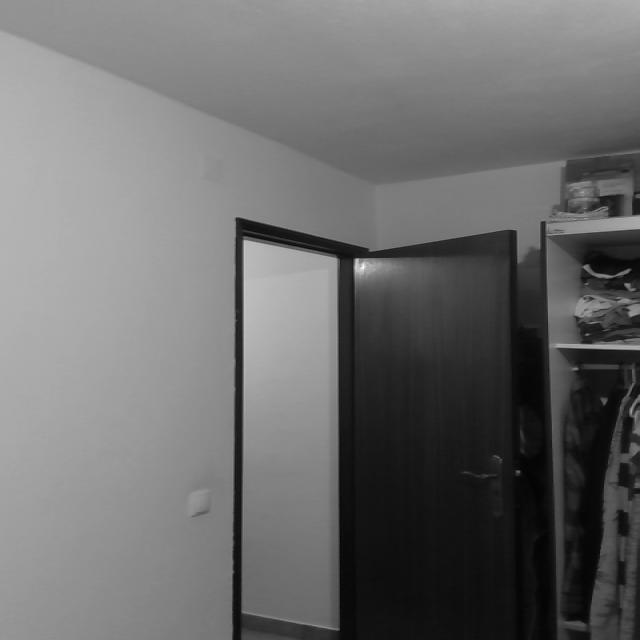Door: (345, 228, 518, 638)
